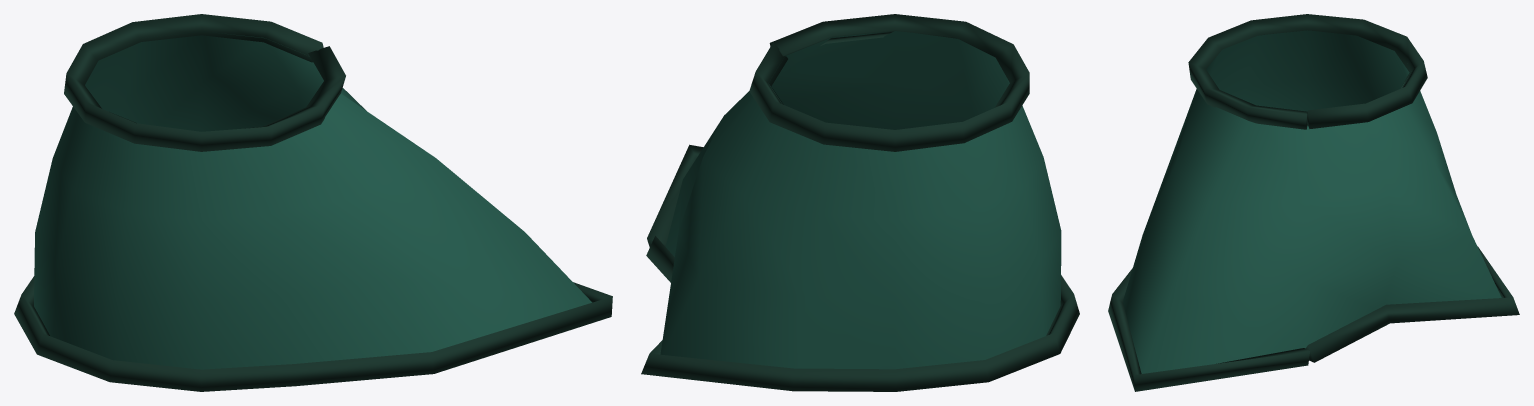
Rendered from vortex_armor_pauldron.L.glb.
3 views of the same model, side by side, from view 1: azimuth 30°, elevation 25°; view 2: azimuth 150°, elevation 25°; view 3: azimuth 270°, elevation 25° (orthographic). The views are drawn at different scales.
Visible parts, largest first — view 1: vortex_armor_pauldron.L; view 2: vortex_armor_pauldron.L; view 3: vortex_armor_pauldron.L.
Boxes of the visible parts, x1=… form: vortex_armor_pauldron.L: x1=14, y1=14, x2=612, y2=391; vortex_armor_pauldron.L: x1=641, y1=14, x2=1079, y2=391; vortex_armor_pauldron.L: x1=1108, y1=14, x2=1519, y2=391.
Size of the model in its own units: 0.3323 by 0.1646 by 0.2981.
